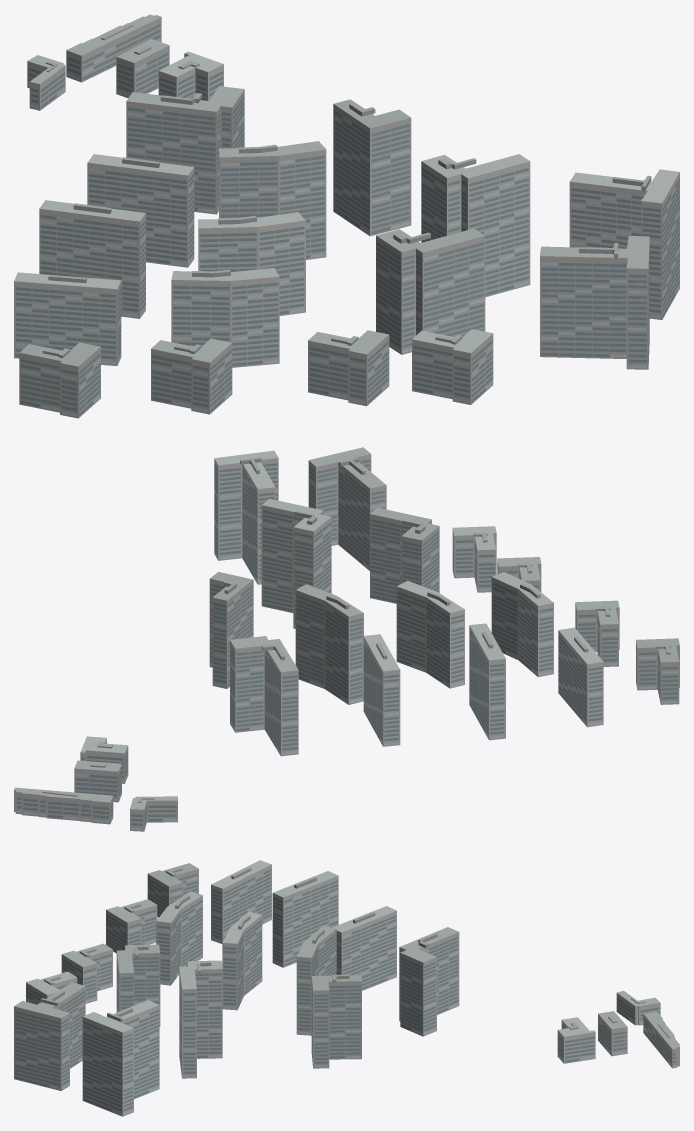
Rendered from apt-a13113007.glb.
3 renders of one model, top to bottom at view 1: azimuth 30°, elevation 25°; view 2: azimuth 150°, elevation 25°; view 3: azimuth 270°, elevation 25°, orthographic. The views are drawn at different scales.
Visible parts, largest first — view 1: apt-a13113007; view 2: apt-a13113007; view 3: apt-a13113007.
Boxes of the visible parts, x1,y1,x2,y2 form: apt-a13113007: [14, 14, 679, 418]; apt-a13113007: [14, 447, 679, 831]; apt-a13113007: [14, 860, 679, 1116].
Size of the model in its own units: 367 by 73 by 477.
